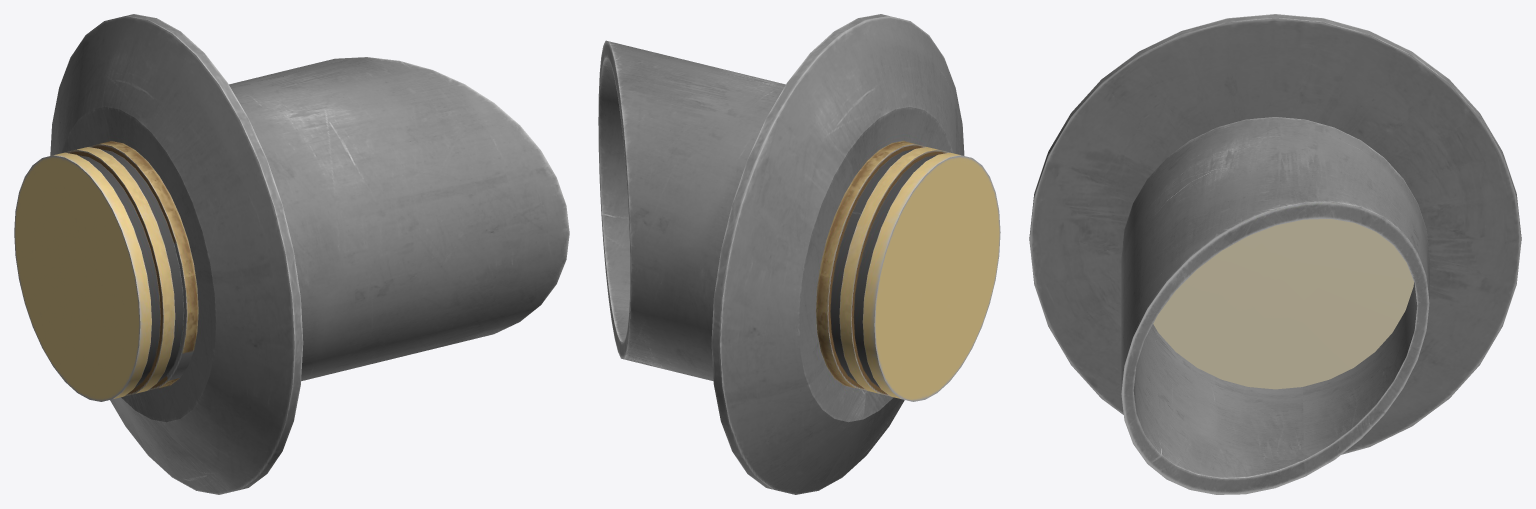
The model's file is guard_7_c_b.glb.
3 views of the same model, side by side, from view 1: azimuth 30°, elevation 25°; view 2: azimuth 150°, elevation 25°; view 3: azimuth 270°, elevation 25° (orthographic).
Visible parts, largest first — view 1: guard_7_c_b_lod0; view 2: guard_7_c_b_lod0; view 3: guard_7_c_b_lod0.
Boxes of the visible parts, <box> form: guard_7_c_b_lod0: <box>14,14,569,494</box>; guard_7_c_b_lod0: <box>598,14,1000,494</box>; guard_7_c_b_lod0: <box>1029,14,1521,494</box>.
Size of what is drawn, in the model's own units: 0.0476 by 0.0485 by 0.0485.
Materials: 1 (1 with a texture image).
